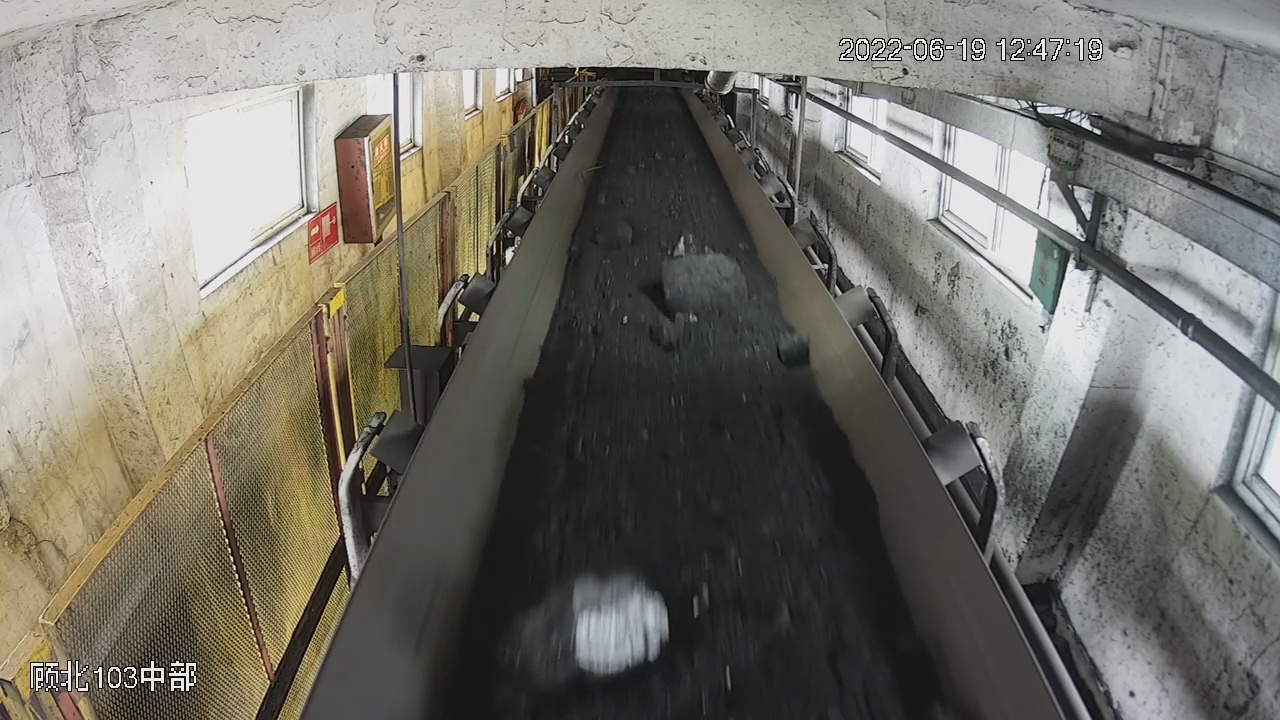gangue: (502, 573, 668, 692), (663, 231, 750, 308), (598, 213, 631, 247), (778, 330, 812, 361), (650, 314, 680, 349)
